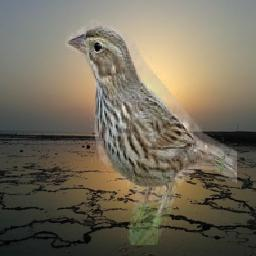Sparrow: (65, 19, 237, 246)
